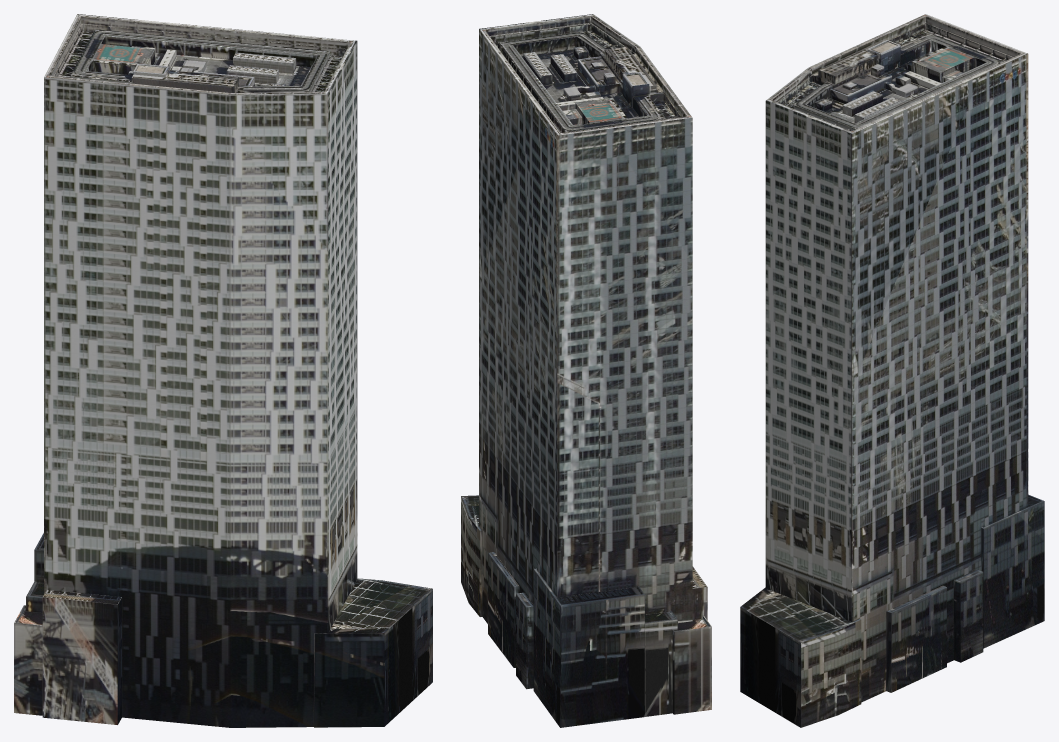
File: Google.fbx
The picture shows the model from 3 angles, left to right: view 1: azimuth 30°, elevation 25°; view 2: azimuth 150°, elevation 25°; view 3: azimuth 270°, elevation 25°; orthographic projection. The views are drawn at different scales.
Parts seen in each view (by area): view 1: Google; view 2: Google; view 3: Google.
Part boxes in pixels (box(x1,y1,x2,y2)): Google: box(14, 14, 432, 727); Google: box(461, 14, 711, 727); Google: box(740, 14, 1044, 727).
Size of the model in its own units: 105 by 186 by 88.78.
1 material, 1 textured.
